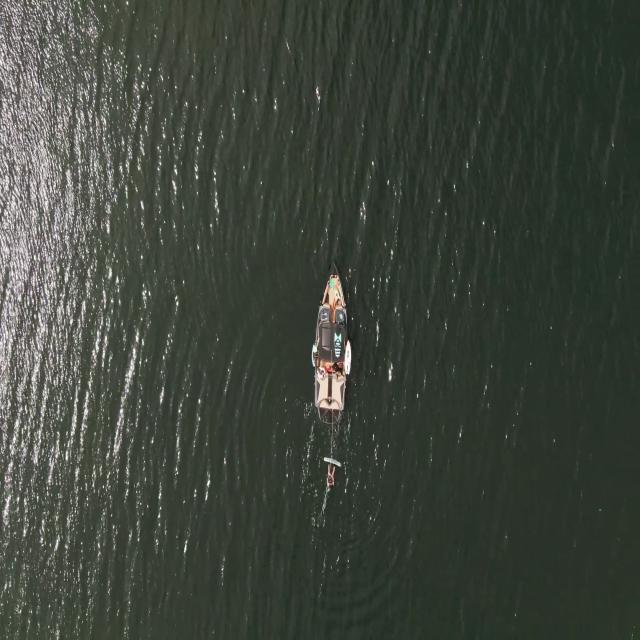ship: (312, 265, 346, 417), (342, 339, 354, 376)
